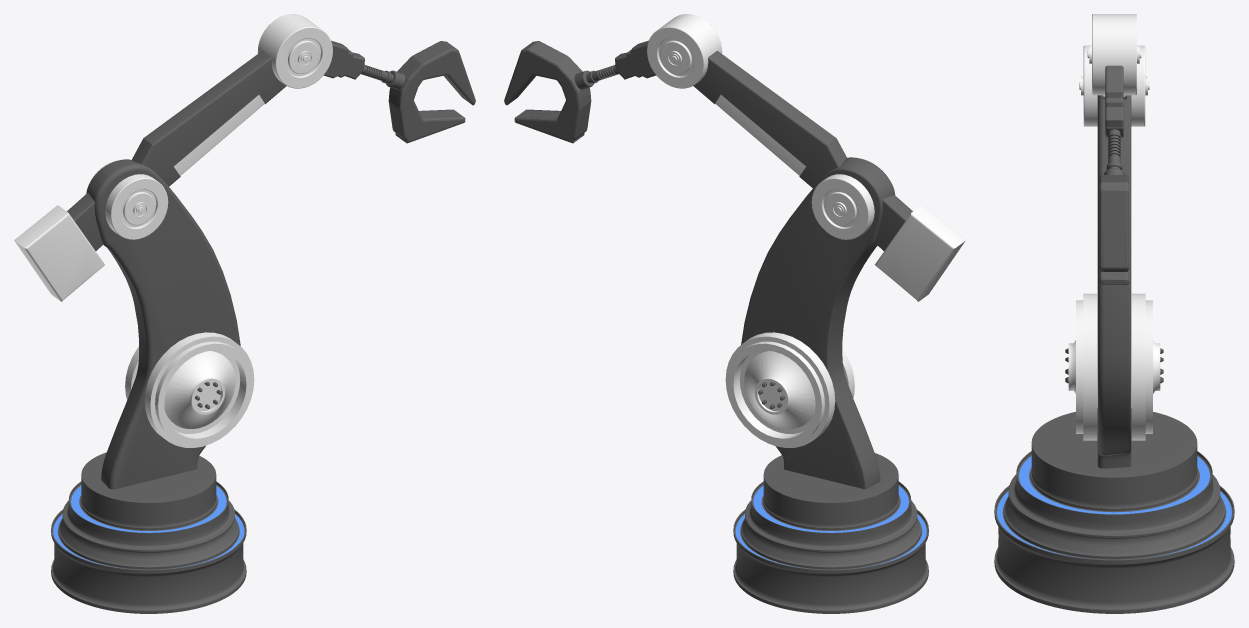
Rendered from staticRobot.glb.
The picture shows the model from 3 angles, left to right: view 1: azimuth 30°, elevation 25°; view 2: azimuth 150°, elevation 25°; view 3: azimuth 270°, elevation 25°; orthographic projection. The views are drawn at different scales.
Parts seen in each view (by area): view 1: Base, Stand_2, SCEW, Stand_1, Extrude_8, Extrude_3, Cylinder_1, Cylinder, Extrude, Extrude_7; view 2: Base, Stand_2, SCEW, Stand_1, Extrude_8, Extrude_3, Cylinder_1, Cylinder, Extrude, Extrude_7; view 3: Base, Stand_2, SCEW, Extrude_8, Cylinder_1, Cylinder, Extrude_7, Sweep_7.
Part boxes in pixels (<box>): Base: <box>51,452,246,613</box>; Stand_2: <box>86,159,240,489</box>; SCEW: <box>125,332,254,447</box>; Stand_1: <box>131,50,286,186</box>; Extrude_8: <box>388,41,475,143</box>; Extrude_3: <box>14,205,104,301</box>; Cylinder_1: <box>257,14,332,88</box>; Cylinder: <box>90,160,168,239</box>; Extrude: <box>67,193,103,250</box>; Extrude_7: <box>323,40,364,79</box>; Base: <box>733,453,928,613</box>; Stand_2: <box>741,157,895,489</box>; SCEW: <box>725,332,854,447</box>; Stand_1: <box>693,50,846,187</box>; Extrude_8: <box>504,41,591,143</box>; Extrude_3: <box>875,205,965,301</box>; Cylinder_1: <box>647,14,722,88</box>; Cylinder: <box>811,174,874,239</box>; Extrude: <box>874,195,912,250</box>; Extrude_7: <box>615,40,656,79</box>; Base: <box>994,408,1234,613</box>; Stand_2: <box>1097,95,1131,468</box>; SCEW: <box>1065,293,1163,440</box>; Extrude_8: <box>1099,175,1129,284</box>; Cylinder_1: <box>1087,14,1141,95</box>; Cylinder: <box>1079,45,1149,126</box>; Extrude_7: <box>1105,65,1123,137</box>; Sweep_7: <box>1104,129,1124,174</box>.
Bounding box in the file's own units: 5.15 × 5.63 × 1.93.
